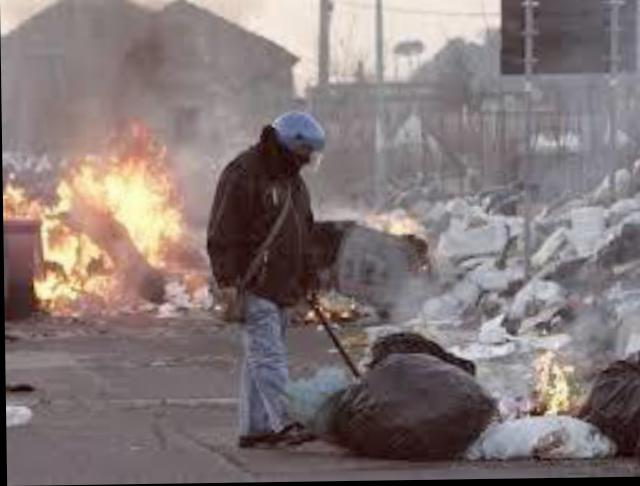fire: (22, 134, 207, 304), (516, 347, 608, 428), (356, 210, 438, 258)
